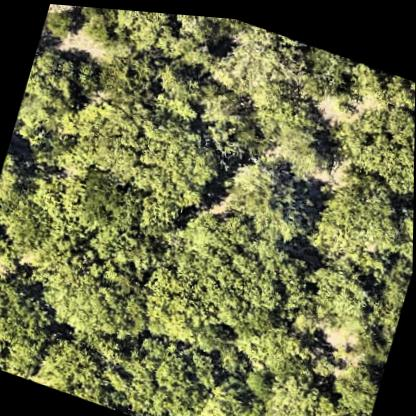tree-top: (161, 197, 318, 339), (61, 82, 227, 211), (306, 146, 415, 275), (35, 238, 154, 356), (209, 145, 325, 246), (117, 320, 223, 416), (338, 82, 415, 195), (14, 35, 88, 144), (299, 251, 381, 337), (87, 209, 180, 283), (262, 99, 342, 183), (78, 5, 171, 77), (0, 273, 60, 382), (356, 242, 413, 356), (68, 170, 146, 240), (224, 15, 298, 88), (290, 37, 354, 104), (148, 54, 210, 121), (0, 196, 60, 265), (326, 347, 385, 414), (272, 390, 370, 416), (142, 193, 194, 242), (172, 11, 231, 46), (0, 147, 29, 205), (42, 3, 80, 45)
